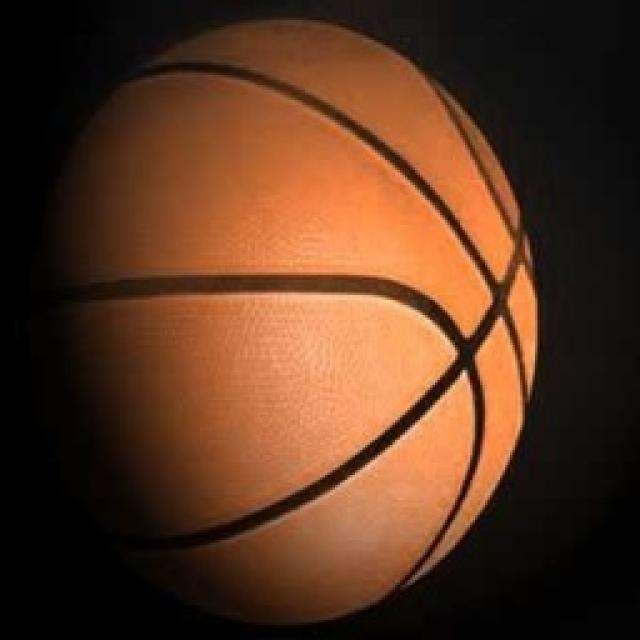rim: (43, 4, 560, 630)
